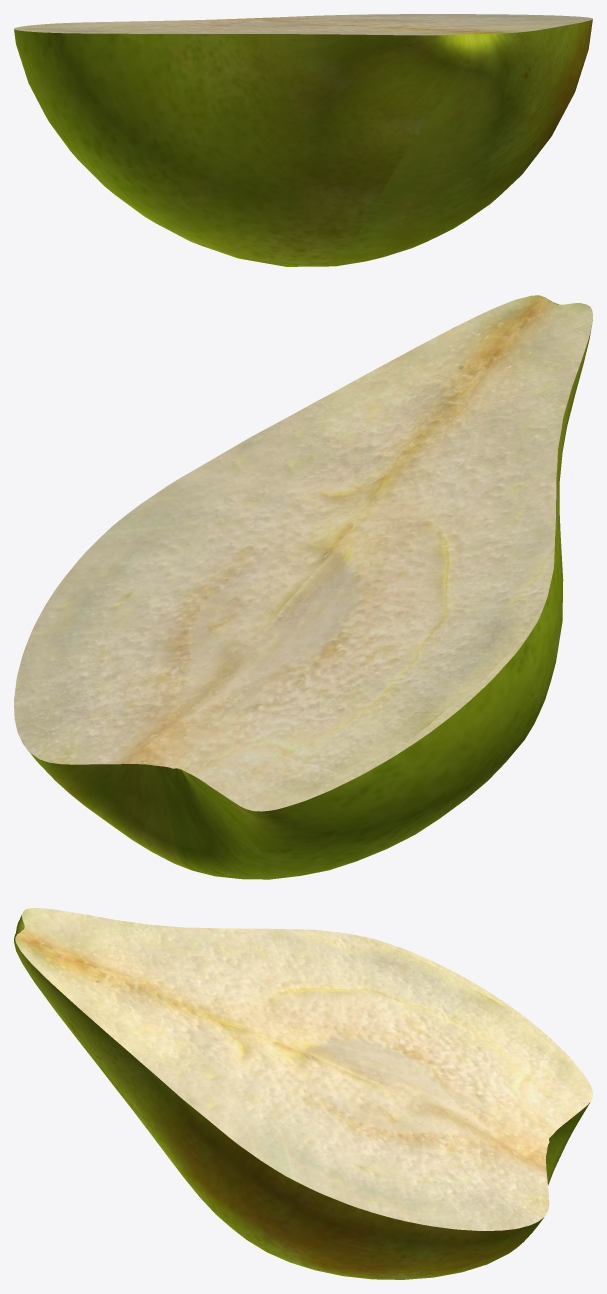
File: pear_half.obj
3 views of the same model, one above another, from view 1: azimuth 30°, elevation 25°; view 2: azimuth 150°, elevation 25°; view 3: azimuth 270°, elevation 25° (orthographic). The views are drawn at different scales.
Visible parts, largest first — view 1: Pear_Bosc02, Pear_Bosc_Half02; view 2: Pear_Bosc_Half02, Pear_Bosc02; view 3: Pear_Bosc_Half02, Pear_Bosc02.
Part boxes in pixels (<box>): Pear_Bosc02: <box>14,19,592,266</box>; Pear_Bosc_Half02: <box>14,14,592,35</box>; Pear_Bosc_Half02: <box>14,295,592,811</box>; Pear_Bosc02: <box>28,298,592,879</box>; Pear_Bosc_Half02: <box>15,908,592,1230</box>; Pear_Bosc02: <box>14,915,590,1279</box>.
Bounding box in the file's own units: 1.45 × 1.1 × 1.84.
